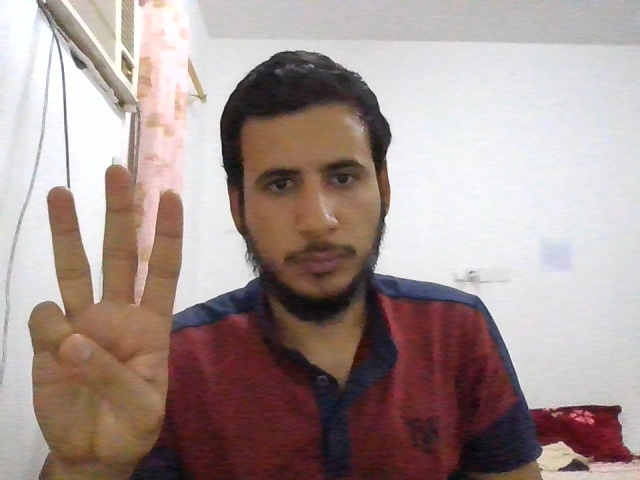Three: (29, 166, 184, 461)
